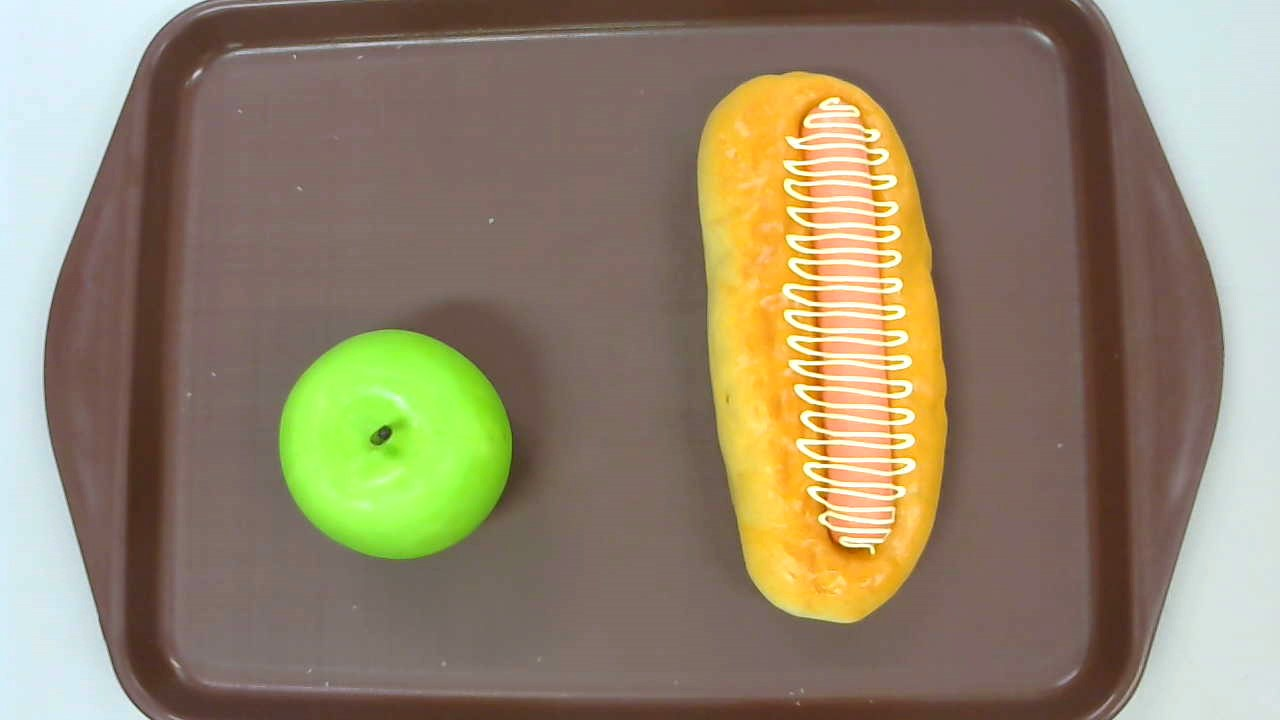green apple: (278, 328, 513, 560)
hot dog: (695, 72, 948, 626)
